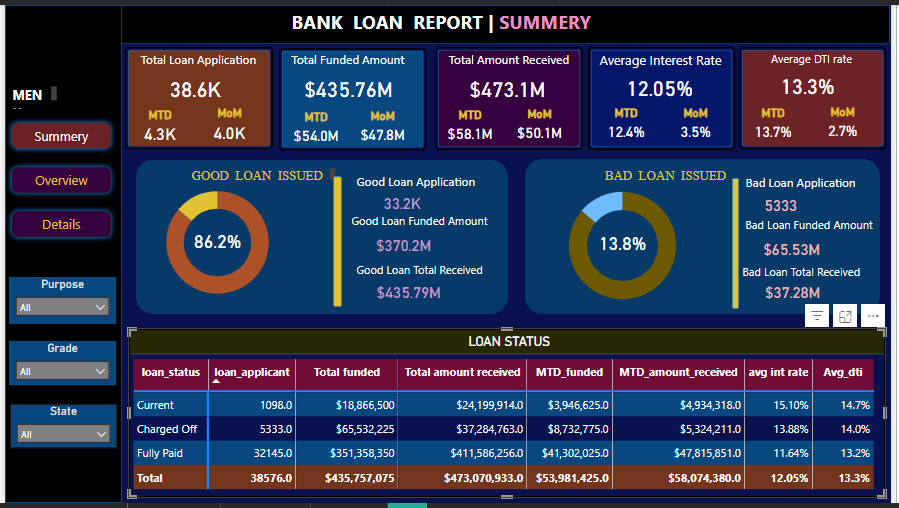

Layout of this report page (visuals, bound fields, positions):
{"tool":"powerbi","page":{"name":"Summery","canvas":[1280,720],"ordinal":0},"visuals":[{"type":"shape","box":[173.5,60.7,214,148],"z":0},{"type":"shape","box":[0,0,1279.5,56.4],"z":1000},{"type":"textbox","box":[409.2,0,461.2,56.4],"z":2000},{"type":"shape","box":[0,0,169.2,720],"z":3000},{"type":"shape","box":[396.1,62.2,213,148],"z":4000},{"type":"shape","box":[621.7,60.7,214,148.9],"z":5000},{"type":"shape","box":[842.9,60.7,212.5,148.9],"z":6000},{"type":"shape","box":[1061.2,60.7,213,148],"z":7000},{"type":"card","fields":{"Values":["measure_table.loan_applicant"]},"box":[199.5,95.4,151.8,50.6],"z":8000},{"type":"card","fields":{"Values":["measure_table.Total funded"]},"box":[409.2,95.4,174.9,50.6],"z":9000},{"type":"card","fields":{"Values":["measure_table.Total amount received"]},"box":[646.3,95.4,160.5,50.6],"z":10000},{"type":"card","fields":{"Values":["measure_table.avg int rate"]},"box":[870.4,94,151.8,50.6],"z":11000},{"type":"card","fields":{"Values":["measure_table.Avg_dti"]},"box":[1085.8,91.1,148.9,50.6],"z":12000},{"type":"textbox","box":[185.1,62.2,189.4,39],"z":13000},{"type":"textbox","box":[396.1,62.2,199.5,37.6],"z":14000},{"type":"textbox","box":[621.7,62.2,214,37.6],"z":15000},{"type":"textbox","box":[847.2,62.2,201,36.1],"z":16000},{"type":"textbox","box":[1071.3,62.2,189.4,33.3],"z":17000},{"type":"card","title":"MTD","fields":{"Values":["measure_table.MTD_loan"]},"box":[173.5,148.9,101.2,54.9],"z":18000},{"type":"card","title":"MTD","fields":{"Values":["measure_table.MTD_funded"]},"box":[396.1,151.8,107,54.9],"z":19000},{"type":"card","title":"MTD","fields":{"Values":["measure_table.MTD_amount_received"]},"box":[621.7,148.9,101.2,54.9],"z":20000},{"type":"card","title":"MTD","fields":{"Values":["measure_table.MTD_avg_int"]},"box":[847.2,146,101.2,54.9],"z":21000},{"type":"card","title":"MTD","fields":{"Values":["measure_table.MTD_avg_dti"]},"box":[1059.8,146,101.2,54.9],"z":22000},{"type":"card","title":"MoM","fields":{"Values":["measure_table.MoM loan applicant"]},"box":[274.7,146,99.8,56.4],"z":23000},{"type":"card","title":"MoM","fields":{"Values":["measure_table.MoM_funded"]},"box":[495.9,150.4,99.8,56.4],"z":24000},{"type":"card","title":"MoM","fields":{"Values":["measure_table.MoM_received"]},"box":[722.9,147.5,99.8,56.4],"z":25000},{"type":"card","title":"MoM","fields":{"Values":["measure_table.MoM_avg_int"]},"box":[948.4,146,99.8,56.4],"z":26000},{"type":"card","title":"MoM","fields":{"Values":["measure_table.MoM_avg_dti"]},"box":[1161,144.6,99.8,56.4],"z":27000},{"type":"shape","box":[189.4,224.1,537.8,222.7],"z":28000},{"type":"shape","box":[751.8,222.7,513.3,224.1],"z":29000},{"type":"textbox","box":[254.5,231.3,228.4,28.9],"z":30000},{"type":"textbox","box":[495.9,296.4,231.3,37.6],"z":31000},{"type":"textbox","box":[854.5,231.3,201,34.7],"z":32000},{"type":"donutChart","fields":{"Y":["measure_table.loan_applicant"],"Category":["bank_loan_data.Good vs Bad loan"]},"box":[185.1,245.8,244.3,195.2],"z":33000},{"type":"textbox","box":[503.1,367.2,214,44.8],"z":34000},{"type":"donutChart","fields":{"Y":["measure_table.loan_applicant"],"Category":["bank_loan_data.Good vs Bad loan"]},"box":[785.1,245.8,215.4,203.9],"z":35000},{"type":"card","fields":{"Values":["measure_table.Good loan %"]},"box":[231.3,315.2,151.8,50.6],"z":36000},{"type":"card","fields":{"Values":["measure_table.bad loan %"]},"box":[825.5,318.1,134.5,52],"z":37000},{"type":"card","fields":{"Values":["measure_table.good loan applicant"]},"box":[526.3,266,95.4,40.5],"z":38000},{"type":"card","fields":{"Values":["measure_table.bad loan applicant"]},"box":[1071.3,268.9,99.8,41.9],"z":39000},{"type":"textbox","box":[503.1,238.6,192.3,43.4],"z":40000},{"type":"textbox","box":[1065.5,240,195.2,44.8],"z":41000},{"type":"card","fields":{"Values":["measure_table.good loan Funded"]},"box":[513.3,321,125.8,53.5],"z":42000},{"type":"card","fields":{"Values":["measure_table.Bad loan Funded"]},"box":[1081.4,325.3,111.3,54.9],"z":43000},{"type":"card","fields":{"Values":["measure_table.good loan recieved"]},"box":[520.5,390.4,125.8,50.6],"z":44000},{"type":"card","fields":{"Values":["measure_table.Bad loan recieved"]},"box":[1072.8,388.9,131.6,52],"z":45000},{"type":"textbox","box":[1065.5,302.2,208.2,44.8],"z":46000},{"type":"textbox","box":[1061.2,370.1,203.9,44.8],"z":47000},{"type":"pivotTable","title":"LOAN   STATUS","fields":{"Rows":["bank_loan_data.loan_status"],"Values":["measure_table.loan_applicant","measure_table.Total funded","measure_table.Total amount received","measure_table.MTD_funded","measure_table.MTD_amount_received","measure_table.avg int rate","measure_table.Avg_dti"]},"box":[177.8,467,1095.9,245.8],"z":48000},{"type":"slicer","title":"Purpose","fields":{"Values":["bank_loan_data.purpose"]},"box":[5.8,393.3,154.7,68],"z":49000},{"type":"slicer","title":"Grade","fields":{"Values":["bank_loan_data.grade"]},"box":[5.8,485.8,154.7,63.6],"z":50000},{"type":"slicer","title":"State","fields":{"Values":["bank_loan_data.address_state"]},"box":[7.2,576.9,154.7,63.6],"z":51000},{"type":"pageNavigator","box":[1.4,161.9,160.5,183.6],"z":51001},{"type":"textbox","box":[5.8,112.8,73.7,41.9],"z":51002},{"type":"shape","box":[474.2,247.2,13,189.4],"z":51003},{"type":"shape","box":[1051.1,250.1,10.1,189.4],"z":51004},{"type":"shape","box":[81,120,33.3,33.3],"z":51005}]}

Visuals, with their boxes on the page's 1280x720 design canvas (x1, y1, x2, y2). These are canvas units, not pixel positions in the 899x508 screenshot, which may show the page scaled, cropped or inside an application window:
shape: bbox=[174, 61, 388, 209]
shape: bbox=[0, 0, 1280, 56]
textbox: bbox=[409, 0, 870, 56]
shape: bbox=[0, 0, 169, 720]
shape: bbox=[396, 62, 609, 210]
shape: bbox=[622, 61, 836, 210]
shape: bbox=[843, 61, 1055, 210]
shape: bbox=[1061, 61, 1274, 209]
card - measure_table.loan_applicant: bbox=[200, 95, 351, 146]
card - measure_table.Total funded: bbox=[409, 95, 584, 146]
card - measure_table.Total amount received: bbox=[646, 95, 807, 146]
card - measure_table.avg int rate: bbox=[870, 94, 1022, 145]
card - measure_table.Avg_dti: bbox=[1086, 91, 1235, 142]
textbox: bbox=[185, 62, 374, 101]
textbox: bbox=[396, 62, 596, 100]
textbox: bbox=[622, 62, 836, 100]
textbox: bbox=[847, 62, 1048, 98]
textbox: bbox=[1071, 62, 1261, 96]
"MTD" card: bbox=[174, 149, 275, 204]
"MTD" card: bbox=[396, 152, 503, 207]
"MTD" card: bbox=[622, 149, 723, 204]
"MTD" card: bbox=[847, 146, 948, 201]
"MTD" card: bbox=[1060, 146, 1161, 201]
"MoM" card: bbox=[275, 146, 374, 202]
"MoM" card: bbox=[496, 150, 596, 207]
"MoM" card: bbox=[723, 148, 823, 204]
"MoM" card: bbox=[948, 146, 1048, 202]
"MoM" card: bbox=[1161, 145, 1261, 201]
shape: bbox=[189, 224, 727, 447]
shape: bbox=[752, 223, 1265, 447]
textbox: bbox=[254, 231, 483, 260]
textbox: bbox=[496, 296, 727, 334]
textbox: bbox=[854, 231, 1056, 266]
donutChart - measure_table.loan_applicant x bank_loan_data.Good vs Bad loan: bbox=[185, 246, 429, 441]
textbox: bbox=[503, 367, 717, 412]
donutChart - measure_table.loan_applicant x bank_loan_data.Good vs Bad loan: bbox=[785, 246, 1000, 450]
card - measure_table.Good loan %: bbox=[231, 315, 383, 366]
card - measure_table.bad loan %: bbox=[826, 318, 960, 370]
card - measure_table.good loan applicant: bbox=[526, 266, 622, 306]
card - measure_table.bad loan applicant: bbox=[1071, 269, 1171, 311]
textbox: bbox=[503, 239, 695, 282]
textbox: bbox=[1066, 240, 1261, 285]
card - measure_table.good loan Funded: bbox=[513, 321, 639, 374]
card - measure_table.Bad loan Funded: bbox=[1081, 325, 1193, 380]
card - measure_table.good loan recieved: bbox=[520, 390, 646, 441]
card - measure_table.Bad loan recieved: bbox=[1073, 389, 1204, 441]
textbox: bbox=[1066, 302, 1274, 347]
textbox: bbox=[1061, 370, 1265, 415]
"LOAN   STATUS" pivotTable: bbox=[178, 467, 1274, 713]
"Purpose" slicer: bbox=[6, 393, 160, 461]
"Grade" slicer: bbox=[6, 486, 160, 549]
"State" slicer: bbox=[7, 577, 162, 640]
pageNavigator: bbox=[1, 162, 162, 346]
textbox: bbox=[6, 113, 80, 155]
shape: bbox=[474, 247, 487, 437]
shape: bbox=[1051, 250, 1061, 440]
shape: bbox=[81, 120, 114, 153]
